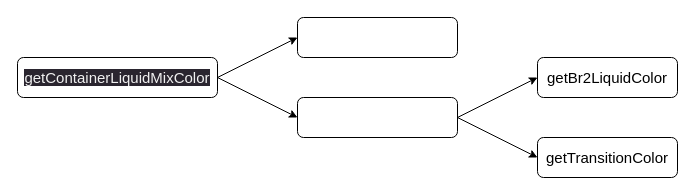
The diagram is 695 pixels wide and 195 high, and some of its shapes have lost their labels. Each missing label, with the box of its shape:
getLiquidMixerColor: (296, 16, 458, 58)
getMixerColor: (296, 96, 458, 138)
